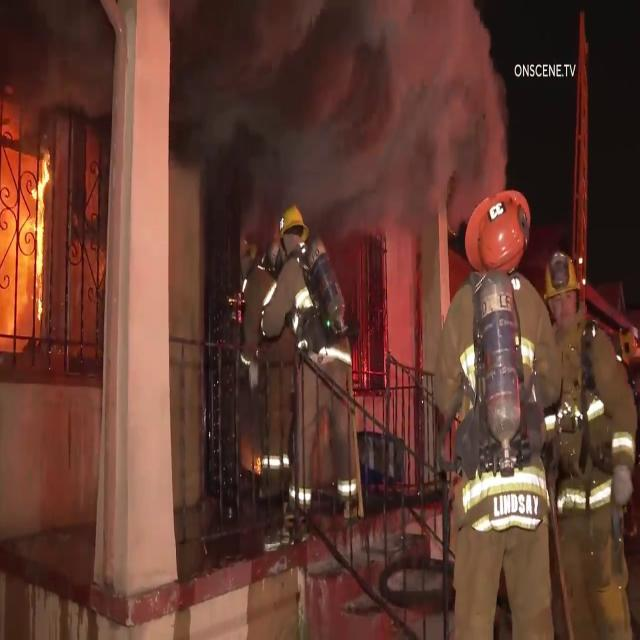Fire: (18, 140, 58, 338)
Smoke: (192, 0, 492, 179)
